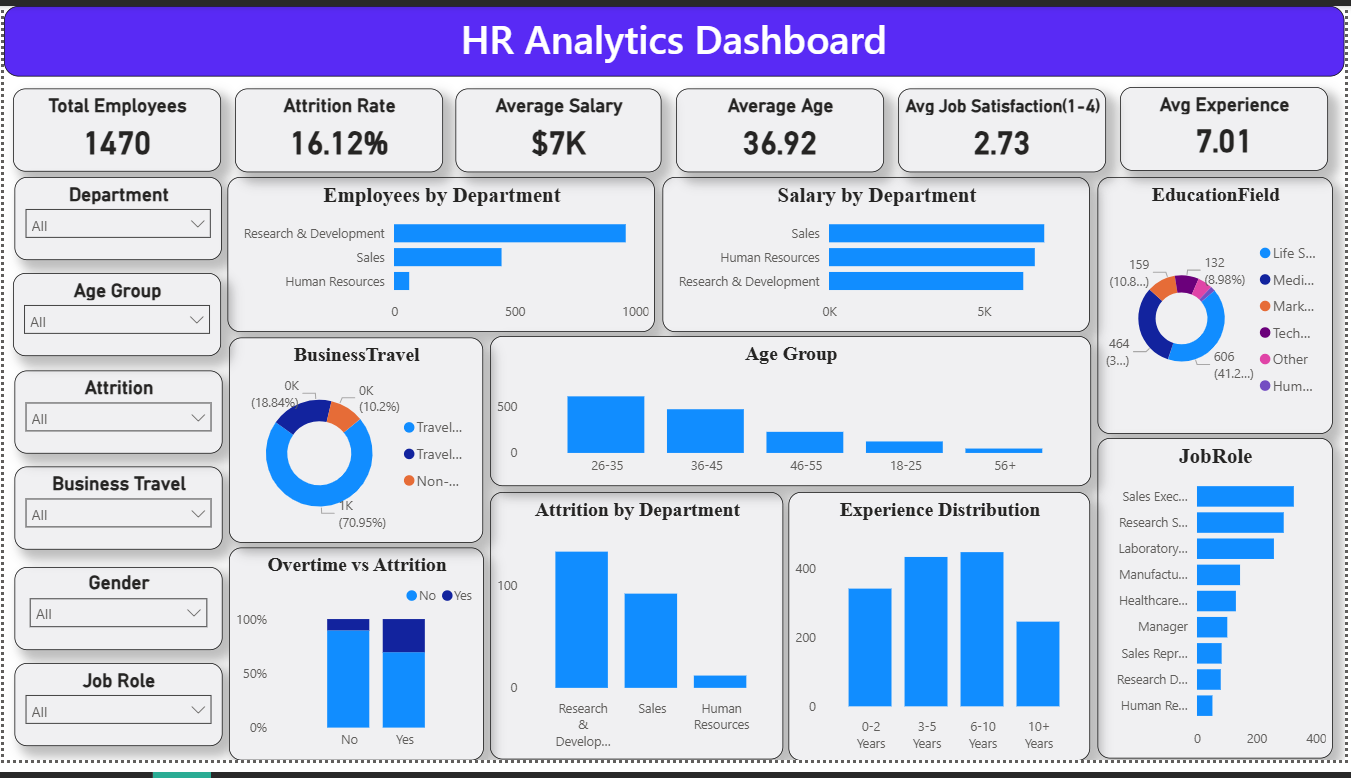

The page's visual inventory and layout, read from the dashboard file:
{"tool":"powerbi","page":{"name":"HR Analytics","canvas":[1280,720],"ordinal":0},"visuals":[{"type":"card","title":"Total Employees","fields":{"Values":["HR_Analytics_Cleaned.Total Employees"]},"box":[9,78.1,198.4,79],"z":0},{"type":"slicer","title":"Department","fields":{"Values":["HR_Analytics_Cleaned.Department"]},"box":[9.8,164,198,79],"z":1000},{"type":"slicer","title":"Gender","fields":{"Values":["HR_Analytics_Cleaned.Gender"]},"box":[9.8,535,198.4,79],"z":2000},{"type":"slicer","title":"Business Travel","fields":{"Values":["HR_Analytics_Cleaned.BusinessTravel"]},"box":[9.8,440,198.4,79],"z":3000},{"type":"slicer","title":"Job Role","fields":{"Values":["HR_Analytics_Cleaned.JobRole"]},"box":[9.8,628,198.4,79],"z":4000},{"type":"slicer","title":"Attrition","fields":{"Values":["HR_Analytics_Cleaned.Attrition"]},"box":[9.8,348,198.4,79],"z":5000},{"type":"clusteredBarChart","title":"Employees by Department","fields":{"Category":["HR_Analytics_Cleaned.Department"],"Y":["HR_Analytics_Cleaned.Total Employees"]},"box":[214,163,408.3,148],"z":6000},{"type":"clusteredColumnChart","title":"Attrition by Department","fields":{"Category":["HR_Analytics_Cleaned.Department"],"Y":["HR_Analytics_Cleaned.Attrition Count"]},"box":[463.6,463.6,280,255.4],"z":7000},{"type":"donutChart","title":"EducationField","fields":{"Category":["HR_Analytics_Cleaned.EducationField"],"Y":["HR_Analytics_Cleaned.Total Employees"]},"box":[1044.2,162.7,224.5,245],"z":9000},{"type":"clusteredBarChart","title":"JobRole","fields":{"Category":["HR_Analytics_Cleaned.JobRole"],"Y":["HR_Analytics_Cleaned.Total Employees"]},"box":[1044.2,413.1,224.5,305.8],"z":10000},{"type":"clusteredBarChart","title":"Salary by Department","fields":{"Category":["HR_Analytics_Cleaned.Department"],"Y":["Avg(HR_Analytics_Cleaned.MonthlyIncome)"]},"box":[629,163,408.3,148],"z":11000},{"type":"columnChart","title":"Age Group","fields":{"Category":["HR_Analytics_Cleaned.Age Group"],"Y":["HR_Analytics_Cleaned.Total Employees"]},"box":[463.6,315,574,143],"z":12000},{"type":"hundredPercentStackedColumnChart","title":"Overtime vs Attrition","fields":{"Category":["HR_Analytics_Cleaned.OverTime"],"Series":["HR_Analytics_Cleaned.Attrition"],"Y":["HR_Analytics_Cleaned.Total Employees"]},"box":[214.7,517.2,243,203.3],"z":13000},{"type":"donutChart","title":"BusinessTravel","fields":{"Category":["HR_Analytics_Cleaned.BusinessTravel"],"Y":["HR_Analytics_Cleaned.Total Employees"]},"box":[214.7,316,242.4,196],"z":14000},{"type":"clusteredColumnChart","title":"Experience Distribution","fields":{"Y":["HR_Analytics_Cleaned.Total Employees"],"Category":["HR_Analytics_Cleaned.Experience Group"]},"box":[749.8,463.6,287.9,257],"z":15000},{"type":"textbox","box":[0,0,1280.1,67],"z":16000},{"type":"card","title":"Avg Experience","fields":{"Values":["HR_Analytics_Cleaned.Average Years at Company"]},"box":[1065,78,198.4,79.7],"z":17000},{"type":"card","title":"Avg Job Satisfaction(1-4)","fields":{"Values":["HR_Analytics_Cleaned.Average Job Satisfaction"]},"box":[853,78.1,198.4,79.7],"z":18000},{"type":"card","title":"Attrition Rate","fields":{"Values":["HR_Analytics_Cleaned.Attrition Rate"]},"box":[220,78.1,198.4,79.7],"z":19000},{"type":"card","title":"Average Age","fields":{"Values":["HR_Analytics_Cleaned.Average Age"]},"box":[642,78.1,198.4,79.7],"z":20000},{"type":"card","title":"Average Salary","fields":{"Values":["HR_Analytics_Cleaned.Average Salary"]},"box":[431,78.1,196.8,79.7],"z":21000},{"type":"slicer","title":"Age Group","fields":{"Values":["HR_Analytics_Cleaned.Age Group"]},"box":[9,255,198.4,79],"z":22000}]}

Visuals, with their boxes in screenshot pixels (x1, y1, x2, y2), scaled from the page's 1280x720 canvas onto the 1351x778 screenshot:
"Total Employees" card: pyautogui.locateOnScreen(9, 84, 219, 170)
"Department" slicer: pyautogui.locateOnScreen(10, 177, 219, 263)
"Gender" slicer: pyautogui.locateOnScreen(10, 578, 220, 663)
"Business Travel" slicer: pyautogui.locateOnScreen(10, 475, 220, 561)
"Job Role" slicer: pyautogui.locateOnScreen(10, 679, 220, 764)
"Attrition" slicer: pyautogui.locateOnScreen(10, 376, 220, 461)
"Employees by Department" clusteredBarChart: pyautogui.locateOnScreen(226, 176, 657, 336)
"Attrition by Department" clusteredColumnChart: pyautogui.locateOnScreen(489, 501, 785, 777)
"EducationField" donutChart: pyautogui.locateOnScreen(1102, 176, 1339, 441)
"JobRole" clusteredBarChart: pyautogui.locateOnScreen(1102, 446, 1339, 777)
"Salary by Department" clusteredBarChart: pyautogui.locateOnScreen(664, 176, 1095, 336)
"Age Group" columnChart: pyautogui.locateOnScreen(489, 340, 1095, 495)
"Overtime vs Attrition" hundredPercentStackedColumnChart: pyautogui.locateOnScreen(227, 559, 483, 777)
"BusinessTravel" donutChart: pyautogui.locateOnScreen(227, 341, 482, 553)
"Experience Distribution" clusteredColumnChart: pyautogui.locateOnScreen(791, 501, 1095, 777)
textbox: pyautogui.locateOnScreen(0, 0, 1350, 72)
"Avg Experience" card: pyautogui.locateOnScreen(1124, 84, 1333, 170)
"Avg Job Satisfaction(1-4)" card: pyautogui.locateOnScreen(900, 84, 1110, 171)
"Attrition Rate" card: pyautogui.locateOnScreen(232, 84, 442, 171)
"Average Age" card: pyautogui.locateOnScreen(678, 84, 887, 171)
"Average Salary" card: pyautogui.locateOnScreen(455, 84, 663, 171)
"Age Group" slicer: pyautogui.locateOnScreen(9, 276, 219, 361)
